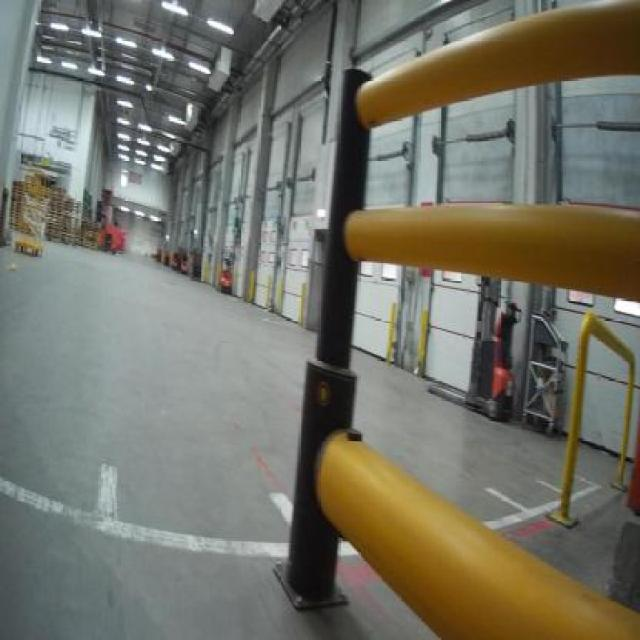ground: (0, 242, 435, 638), (351, 341, 626, 592)
pallet: (9, 177, 102, 251), (12, 238, 46, 257)
